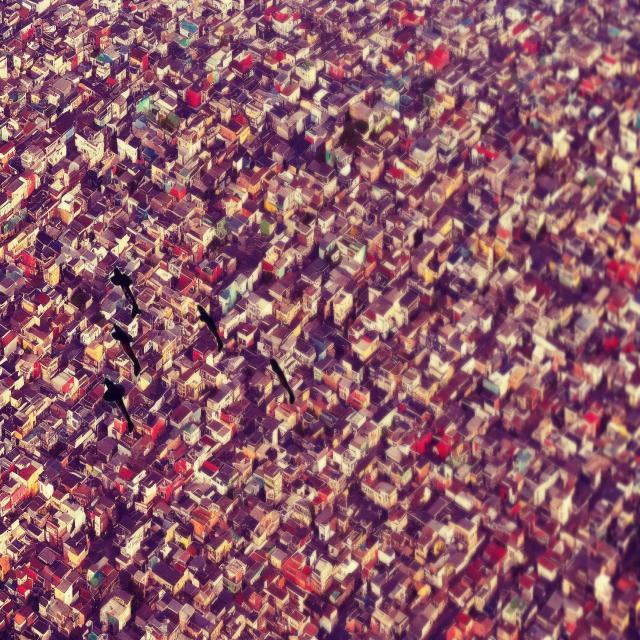airplane: (110, 322, 142, 378), (103, 378, 134, 432), (109, 268, 141, 318), (196, 303, 223, 351), (270, 358, 295, 405)
